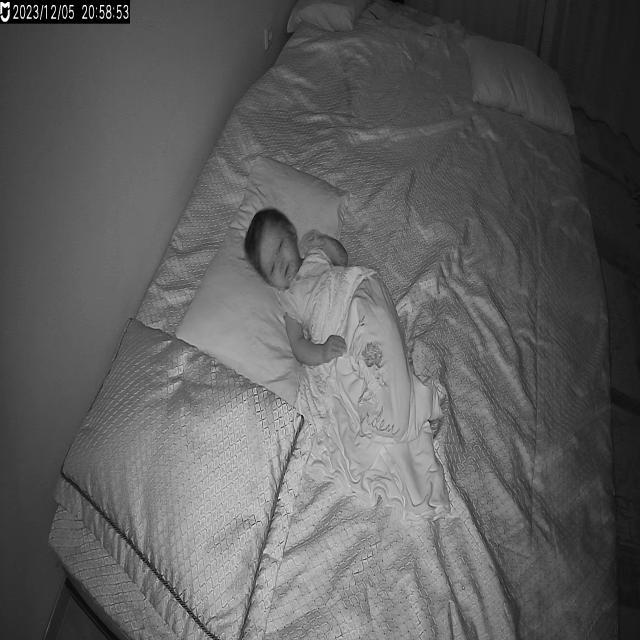baby: (244, 204, 418, 441)
